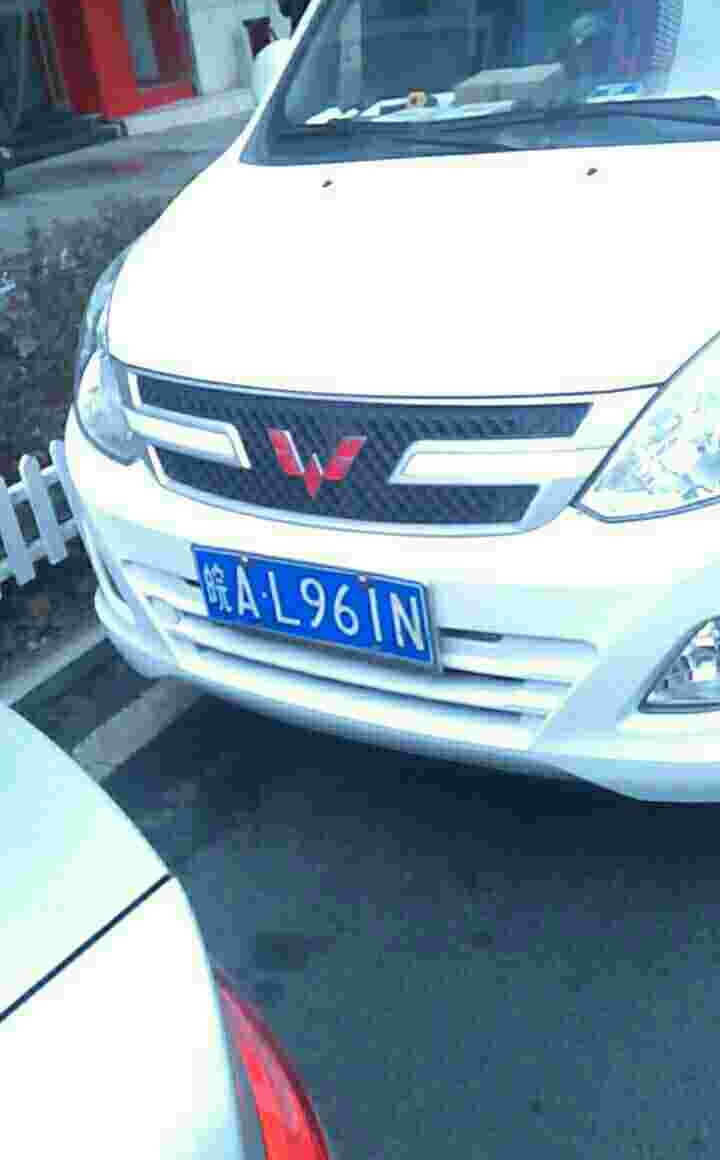license_plate: (196, 544, 433, 663)
